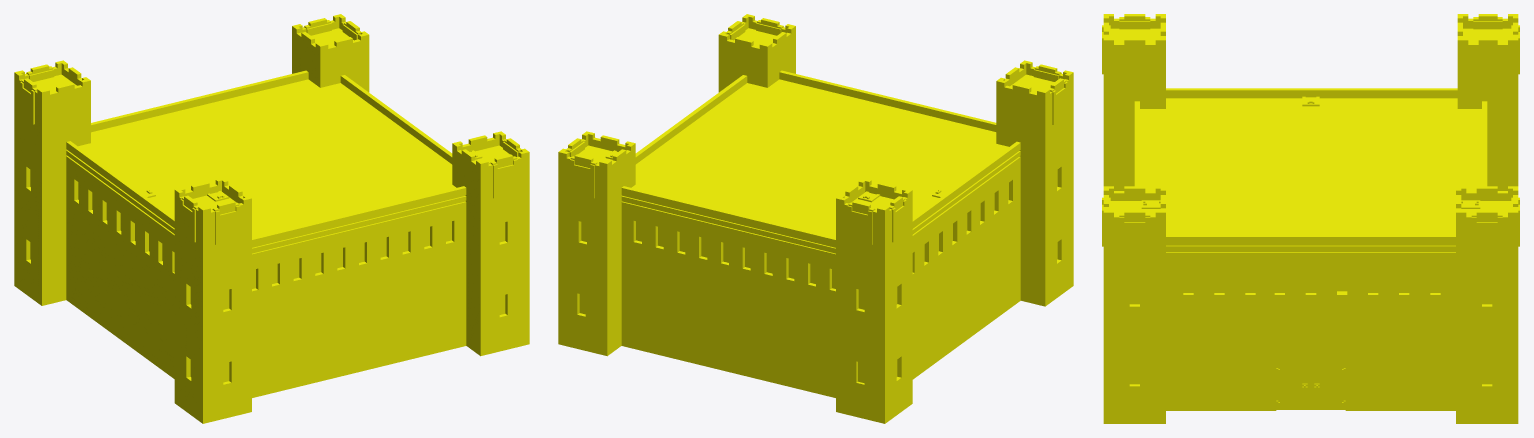
Rendered from voxel-knights-keep.glb.
The picture shows the model from 3 angles, left to right: view 1: azimuth 30°, elevation 25°; view 2: azimuth 150°, elevation 25°; view 3: azimuth 270°, elevation 25°; orthographic projection. The views are drawn at different scales.
Visible parts, largest first — view 1: ObjObject; view 2: ObjObject; view 3: ObjObject.
Part boxes in pixels (bbox=[...]): ObjObject: bbox=[14, 14, 529, 423]; ObjObject: bbox=[558, 14, 1073, 423]; ObjObject: bbox=[1102, 14, 1519, 423].
Bounding box in the file's own units: 24.2 × 15 × 24.2.
